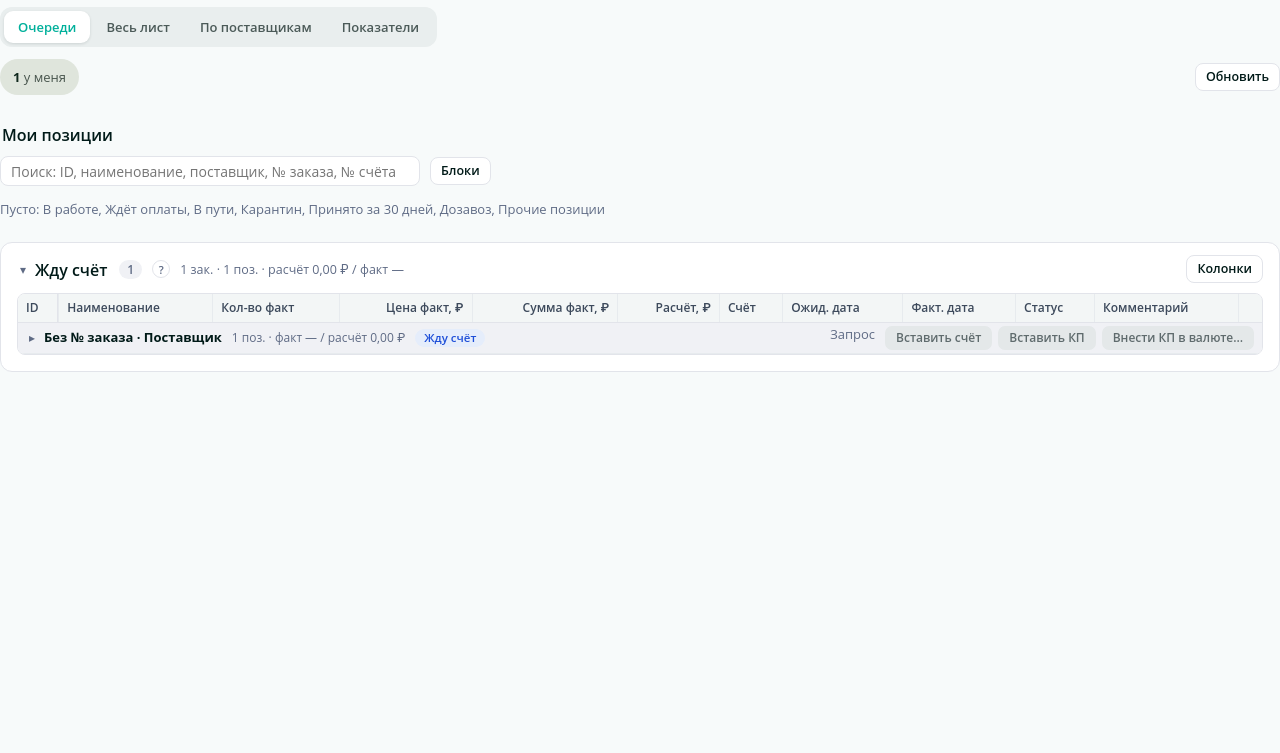
keeps the invoice closed until fact money is saved with the edited field as driver
The image size is (1280, 753).
Step 1. Click the button "▸ Без № заказа · Поставщик" → (124, 338), box x1=26 y1=329 x2=222 y2=347
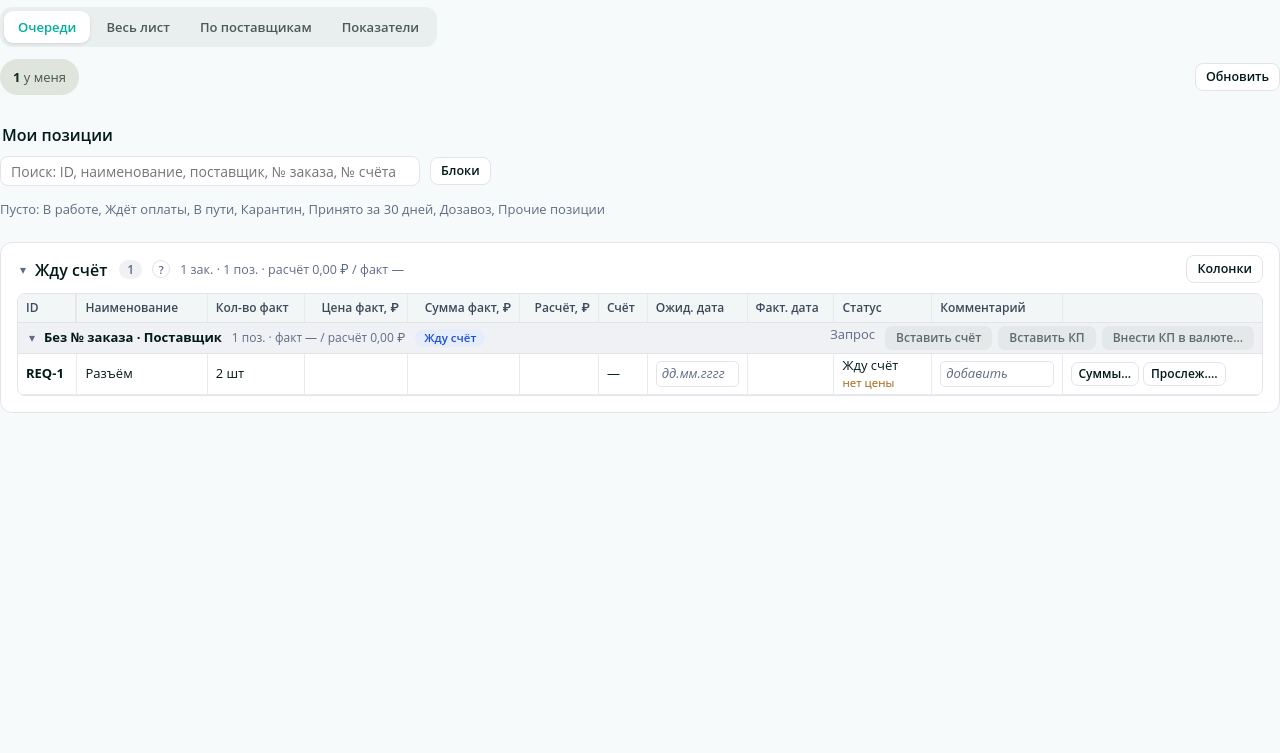
Step 2. Click the button "Суммы…" → (1105, 374), box x1=1070 y1=362 x2=1139 y2=386
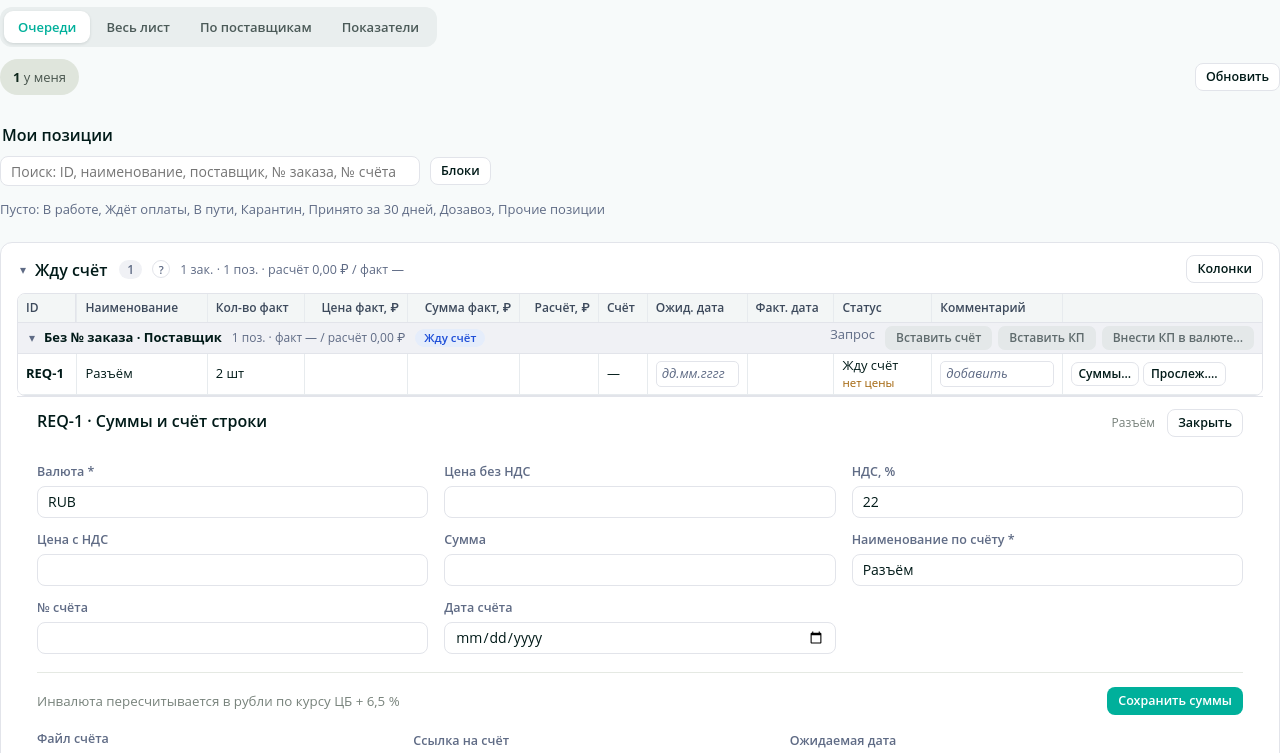
Step 3. Type "100" into the field labelled "Цена без НДС" → (640, 502), box x1=444 y1=486 x2=836 y2=518
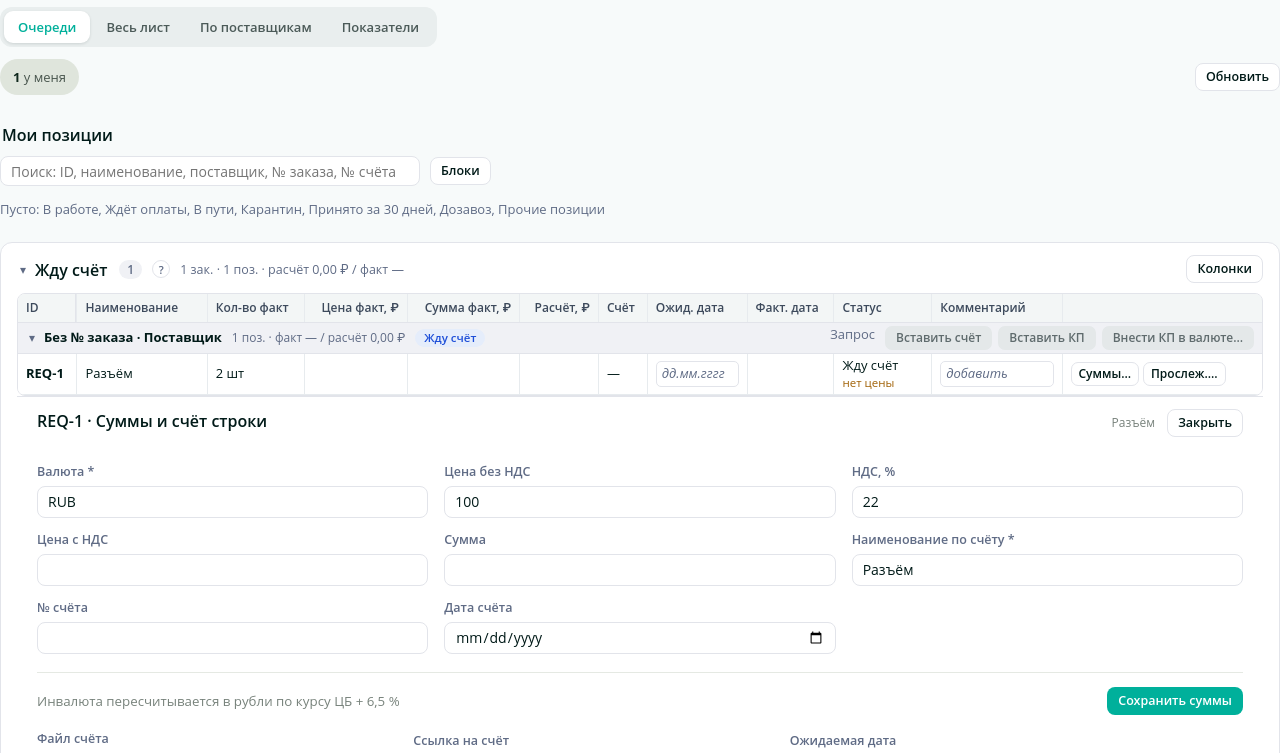
Step 4. Click the button "Сохранить суммы" → (1175, 701), box x1=1107 y1=687 x2=1243 y2=715
(page scrolled)
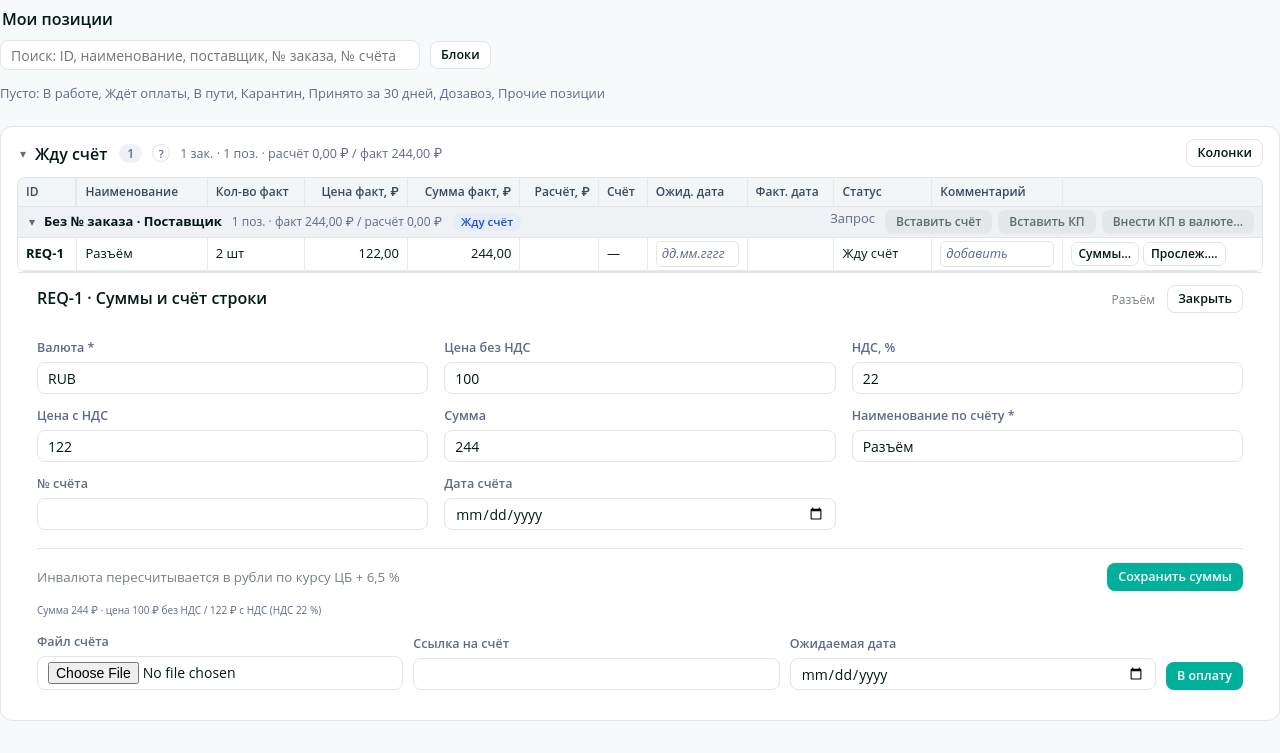
Result: the button "В оплату" is enabled at x1=1166 y1=662 x2=1243 y2=690
